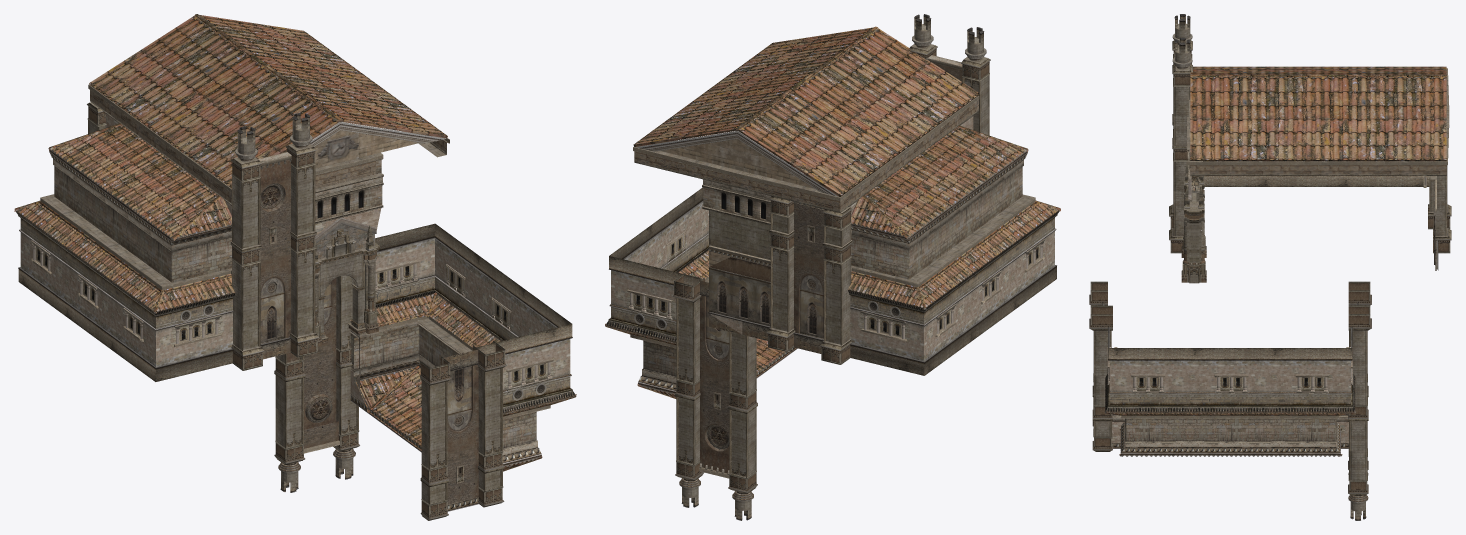
File: BigHouse1.FBX
3 renders of one model, left to right at view 1: azimuth 30°, elevation 25°; view 2: azimuth 150°, elevation 25°; view 3: azimuth 270°, elevation 25°, orthographic. The views are drawn at different scales.
Parts seen in each view (by area): view 1: LV_Spechia_City_BigAuctionHouse03_SM_LHJ (×2), LV_Spechia_City_BigAuctionHouse04_SM_LHJ (×2), LV_Spechia_City_BigAuctionHouse01_SM_LHJ, LV_Spechia_City_BigAuctionHouse02A_SM_LHJ, LV_Spechia_City_BigAuctionHouse02_SM_LHJ, LV_Spechia_City_BigAuctionHouse05_SM_LHJ; view 2: LV_Spechia_City_BigAuctionHouse03_SM_LHJ (×2), LV_Spechia_City_BigAuctionHouse01_SM_LHJ, LV_Spechia_City_BigAuctionHouse04_SM_LHJ (×2), LV_Spechia_City_BigAuctionHouse05_SM_LHJ, LV_Spechia_City_BigAuctionHouse02_SM_LHJ; view 3: LV_Spechia_City_BigAuctionHouse01_SM_LHJ, LV_Spechia_City_BigAuctionHouse04_SM_LHJ (×2), LV_Spechia_City_BigAuctionHouse03_SM_LHJ (×2), LV_Spechia_City_BigAuctionHouse02A_SM_LHJ, LV_Spechia_City_BigAuctionHouse02_SM_LHJ.
Part boxes in pixels (box(x1,y1,x2,y2)): LV_Spechia_City_BigAuctionHouse03_SM_LHJ (×2): box(14, 102, 576, 520); LV_Spechia_City_BigAuctionHouse04_SM_LHJ (×2): box(16, 113, 575, 505); LV_Spechia_City_BigAuctionHouse01_SM_LHJ: box(88, 14, 449, 204); LV_Spechia_City_BigAuctionHouse02A_SM_LHJ: box(315, 225, 379, 346); LV_Spechia_City_BigAuctionHouse02_SM_LHJ: box(315, 152, 383, 236); LV_Spechia_City_BigAuctionHouse05_SM_LHJ: box(310, 122, 445, 259); LV_Spechia_City_BigAuctionHouse03_SM_LHJ (×2): box(605, 14, 1060, 520); LV_Spechia_City_BigAuctionHouse01_SM_LHJ: box(633, 26, 979, 212); LV_Spechia_City_BigAuctionHouse04_SM_LHJ (×2): box(606, 55, 1059, 478); LV_Spechia_City_BigAuctionHouse05_SM_LHJ: box(635, 131, 838, 326); LV_Spechia_City_BigAuctionHouse02_SM_LHJ: box(702, 179, 771, 340); LV_Spechia_City_BigAuctionHouse01_SM_LHJ: box(1186, 66, 1449, 175); LV_Spechia_City_BigAuctionHouse04_SM_LHJ (×2): box(1102, 54, 1429, 448); LV_Spechia_City_BigAuctionHouse03_SM_LHJ (×2): box(1089, 14, 1451, 520); LV_Spechia_City_BigAuctionHouse02A_SM_LHJ: box(1181, 165, 1206, 283); LV_Spechia_City_BigAuctionHouse02_SM_LHJ: box(1187, 100, 1438, 270).
Size of the model in its own units: 1106 by 1309 by 1032.
